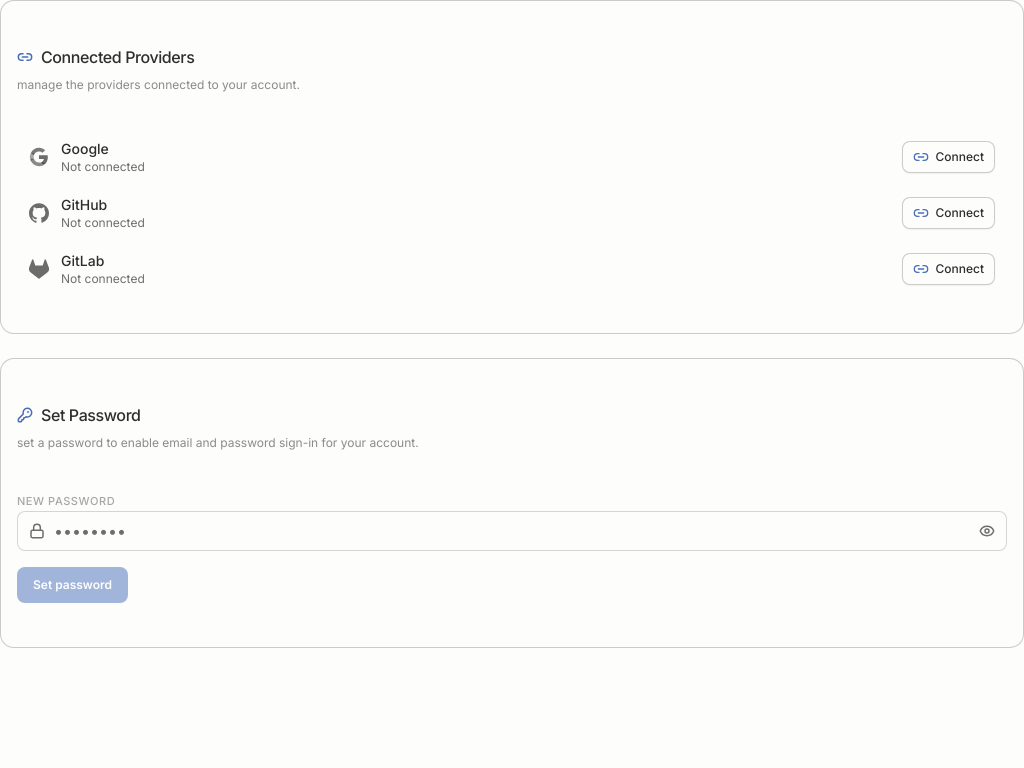
Test case: AccountSection › prompts for a verification code when GoTrue requires reauthentication, then retries with the nonce
Type "hunter2222" into the password field labelled "New Password". click: (512, 531)
box: [17,511,1007,551]
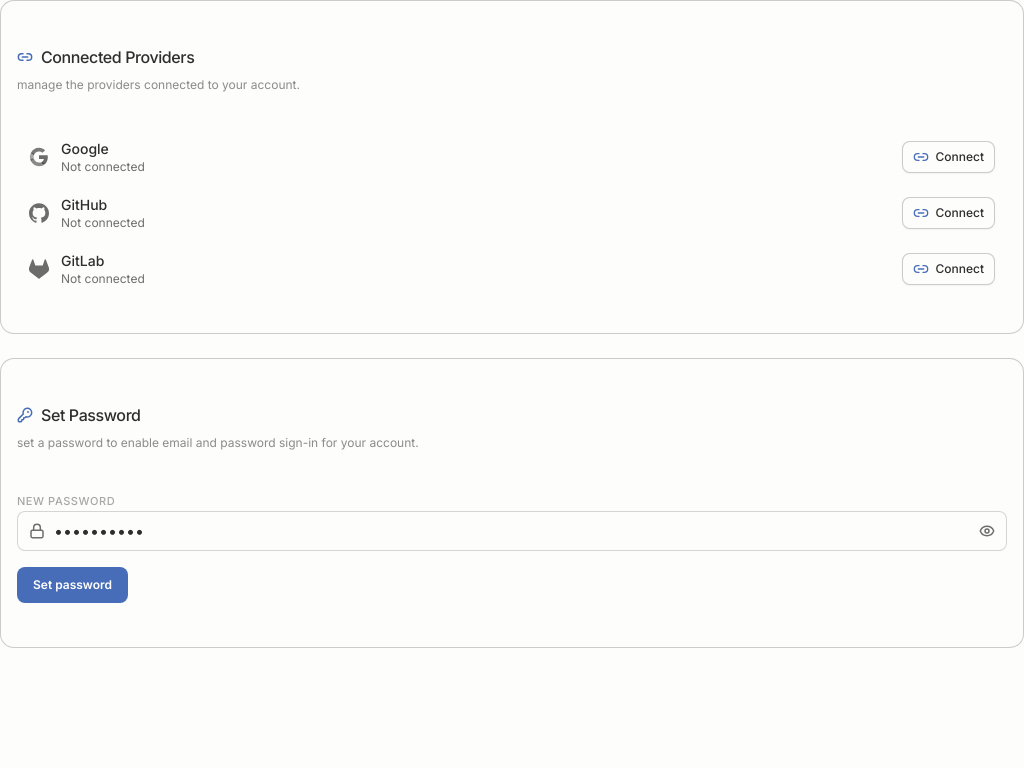
Click the button "Set password". click: click(72, 585)
box: [17,567,128,603]
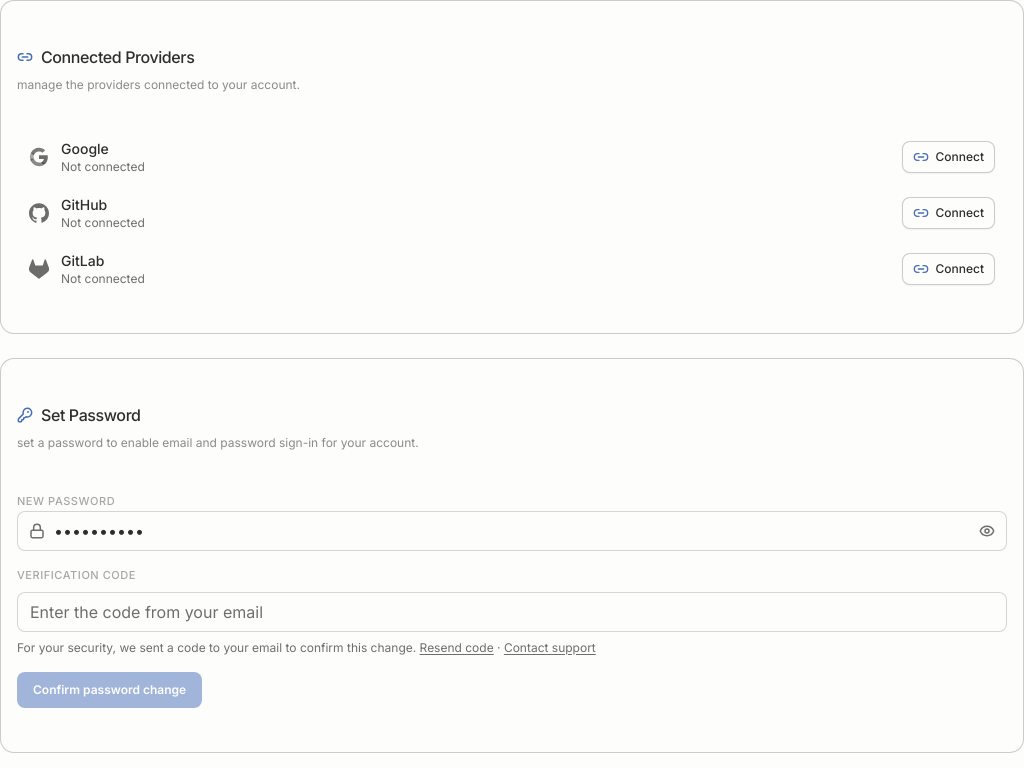
Result: the field labelled "Verification code" is shown
Type "123456" into the field labelled "Verification code". click: (512, 612)
box: [17,592,1007,632]
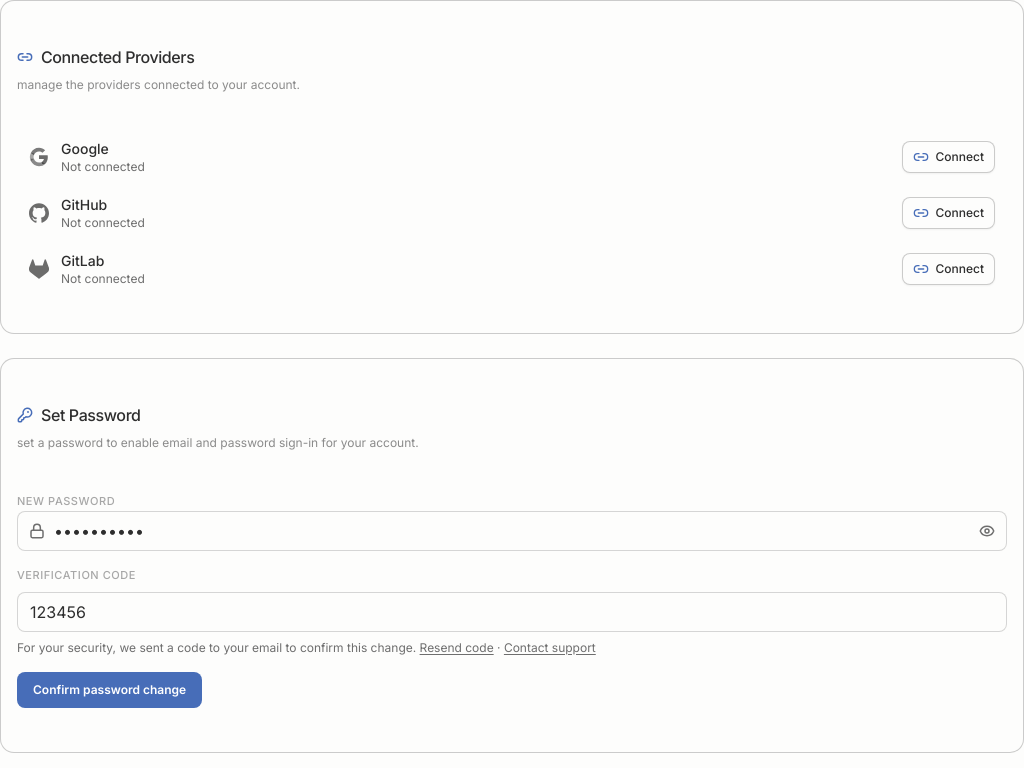
Click the button "Confirm password change". click: click(110, 690)
box: [17,672,202,708]
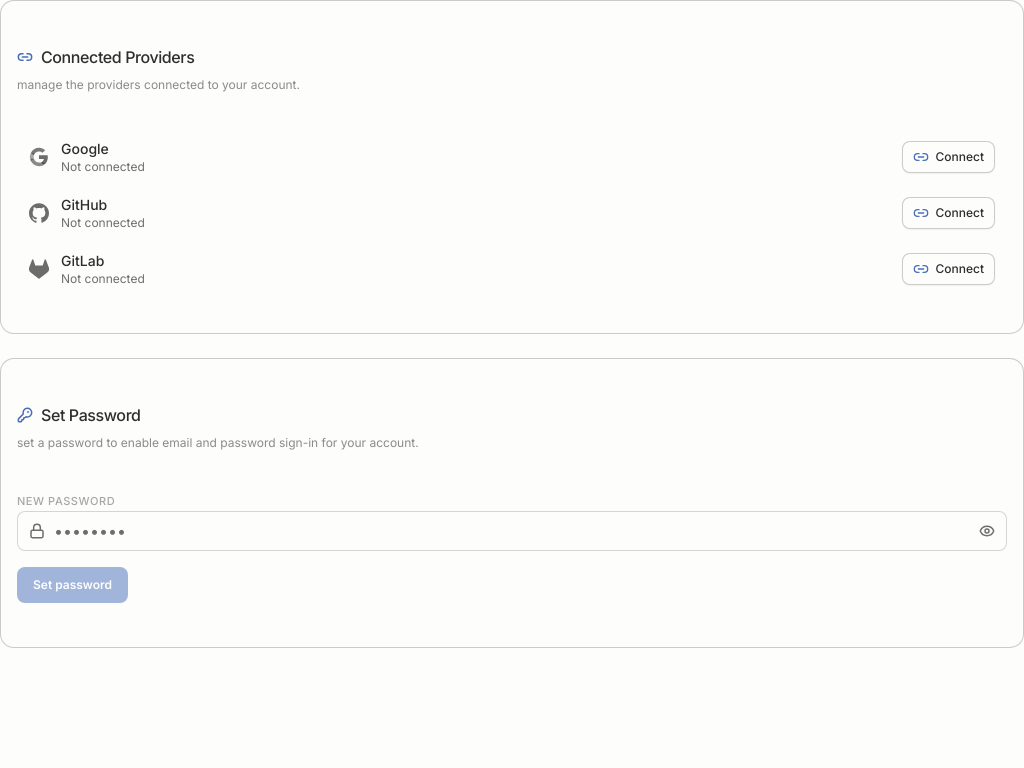
Result: the label labelled "Verification code" is gone
